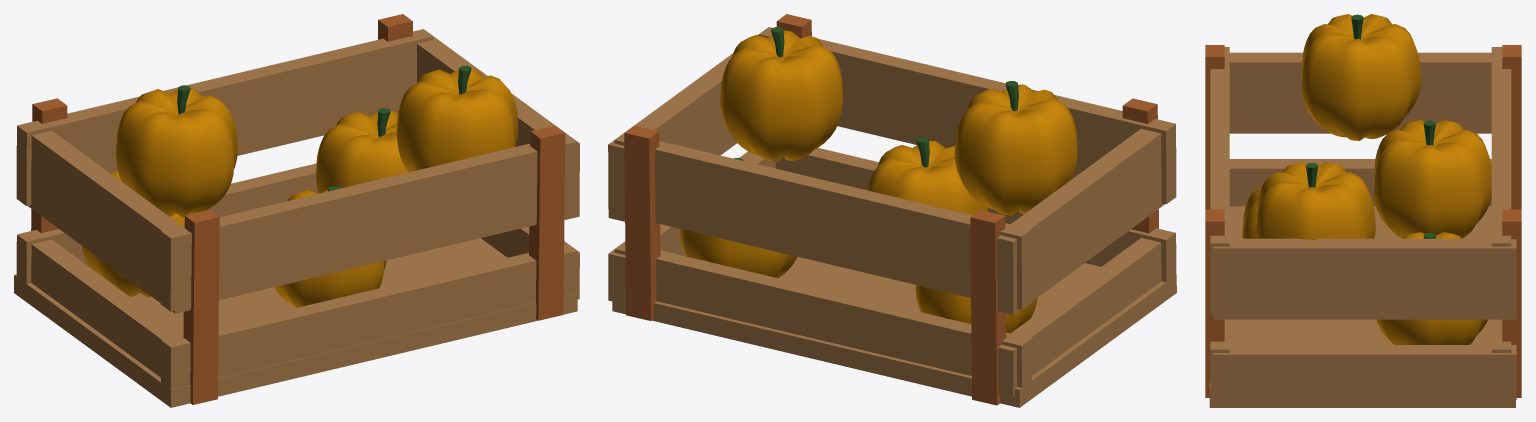
Rendered from PaprikaCrate_02.fbx.
3 renders of one model, left to right at view 1: azimuth 30°, elevation 25°; view 2: azimuth 150°, elevation 25°; view 3: azimuth 270°, elevation 25°, orthographic. The views are drawn at different scales.
Visible parts, largest first — view 1: pCube93, pCube92, pCube99, pCube90, pSphere72, pCube100, pSphere68, pCube98, pCube96, pCube94, pSphere73, pCube89 (+6 smaller); view 2: pCube92, pCube89, pCube93, pCube90, pCube100, pSphere68, pSphere72, pCube98, pCube95, pCube101, pCube91, pSphere75 (+6 smaller); view 3: pCube101, pCube97, pSphere72, pCube100, pSphere74, pCube90, pSphere68, pCube92, pCube93, pCube98, pSphere73, pCube91 (+6 smaller).
Boxes of the visible parts, x1,y1,x2,y2 form: pCube93: [160, 134, 577, 311]; pCube92: [16, 29, 433, 205]; pCube99: [161, 243, 577, 389]; pCube90: [14, 238, 577, 407]; pSphere72: [115, 88, 237, 217]; pCube100: [18, 121, 190, 313]; pSphere68: [396, 68, 518, 172]; pCube98: [18, 230, 181, 377]; pCube96: [183, 210, 219, 404]; pCube94: [529, 125, 565, 320]; pSphere73: [315, 111, 408, 193]; pCube89: [16, 163, 317, 283]; pCube92: [614, 133, 1031, 309]; pCube89: [614, 242, 1031, 387]; pCube93: [758, 27, 1176, 204]; pCube90: [612, 255, 1176, 407]; pCube100: [997, 128, 1164, 315]; pSphere68: [720, 30, 843, 161]; pSphere72: [954, 84, 1077, 215]; pCube98: [998, 237, 1161, 397]; pCube95: [624, 125, 660, 320]; pCube101: [608, 34, 758, 221]; pCube91: [970, 210, 1006, 405]; pSphere75: [867, 140, 988, 215]; pCube101: [1213, 238, 1516, 319]; pCube97: [1213, 345, 1516, 399]; pSphere72: [1301, 14, 1421, 140]; pCube100: [1229, 52, 1491, 133]; pSphere74: [1374, 120, 1491, 238]; pCube90: [1209, 206, 1515, 407]; pSphere68: [1256, 162, 1375, 239]; pCube92: [1491, 47, 1511, 246]; pCube93: [1210, 47, 1229, 314]; pCube98: [1229, 159, 1491, 206]; pSphere73: [1376, 232, 1487, 344]; pCube91: [1502, 45, 1521, 209].
Bounding box in the file's own units: 6.41 × 3.66 × 4.39.
